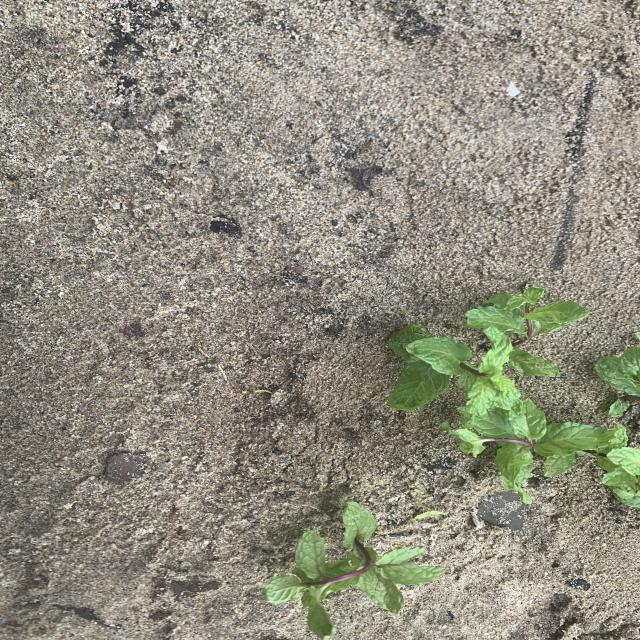crop: (262, 502, 444, 640), (441, 398, 615, 503), (389, 320, 520, 416), (543, 425, 640, 508), (465, 287, 588, 351), (595, 346, 640, 417), (506, 349, 559, 376)
weed: (414, 499, 446, 520), (412, 488, 425, 496)
